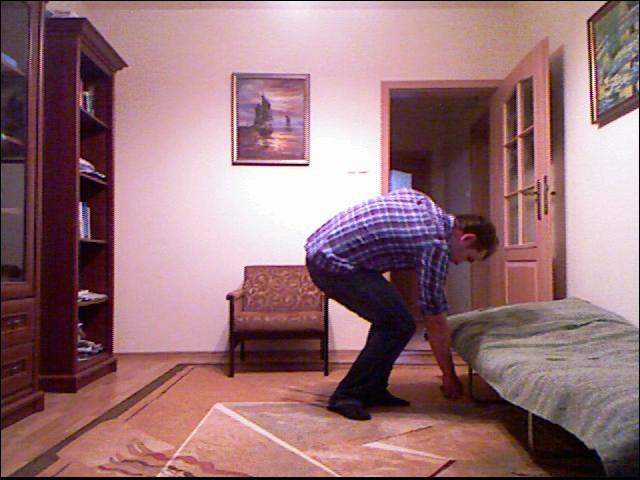bending: (297, 176, 502, 427)
